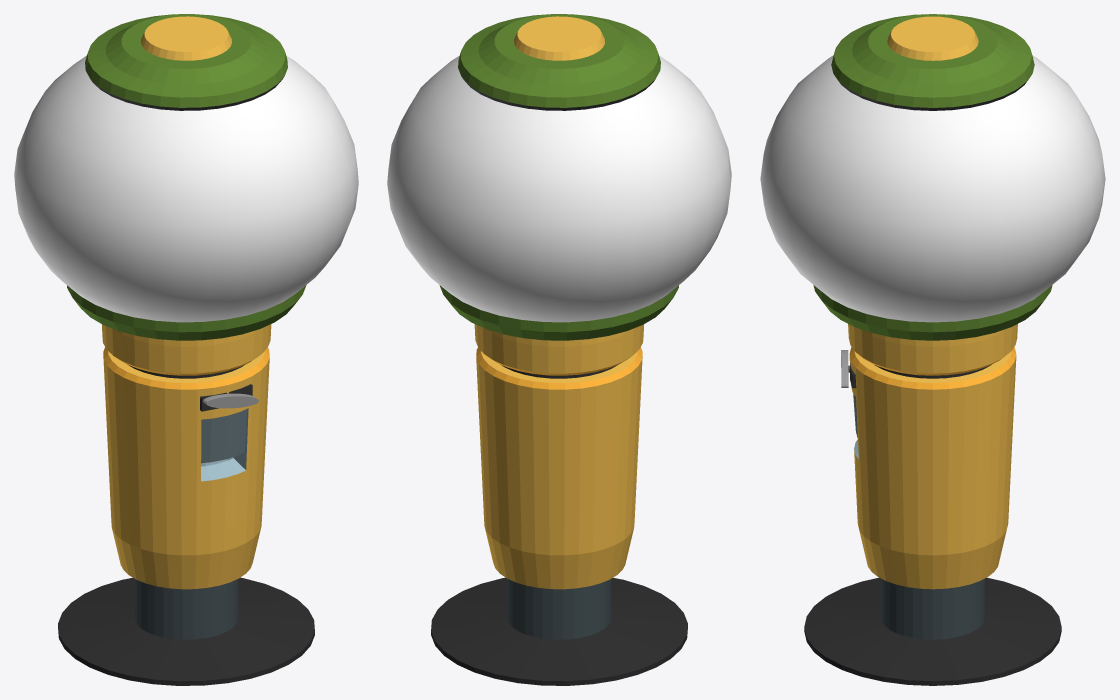
The model's file is Gumball Machine.fbx.
3 views of the same model, side by side, from view 1: azimuth 30°, elevation 25°; view 2: azimuth 150°, elevation 25°; view 3: azimuth 270°, elevation 25° (orthographic).
Visible parts, largest first — view 1: Gumball Machine; view 2: Gumball Machine; view 3: Gumball Machine.
Boxes of the visible parts, <box> form: Gumball Machine: <box>14,14,358,685</box>; Gumball Machine: <box>387,14,731,685</box>; Gumball Machine: <box>760,14,1105,685</box>.
Size of the model in its own units: 70.22 by 134 by 70.22.
Materials: 2 (1 with a texture image).
